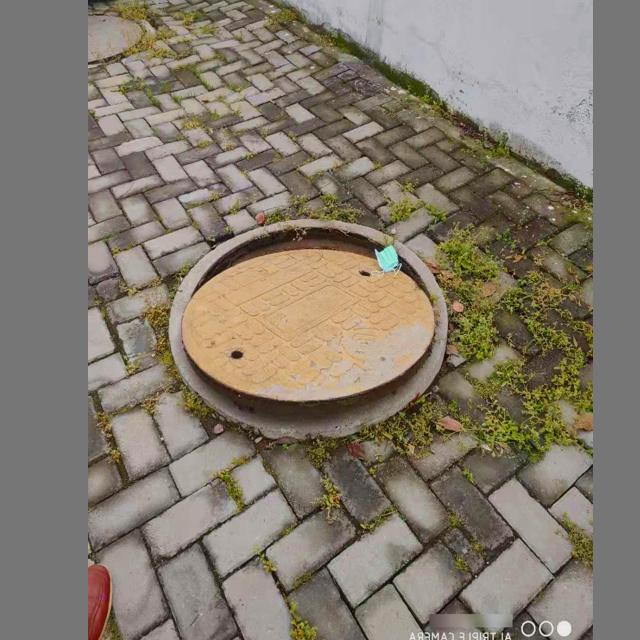uncovered: (168, 217, 449, 440)
